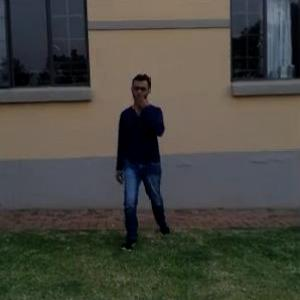follow: (116, 73, 168, 242)
